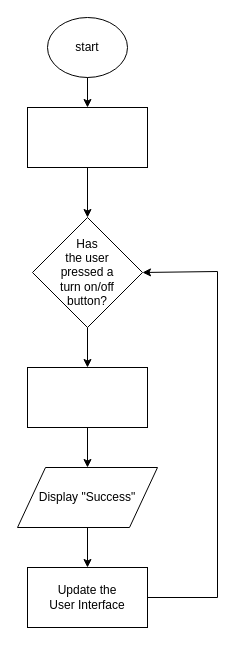
Image size: 243x645. Some labels were removed from this diagram. The centre of each missing label's shape, as x and y in pixels:
Load the User Interface: point (87, 137)
Send a request to lightSetter.php corresponding to the chosen light button: point (87, 397)
